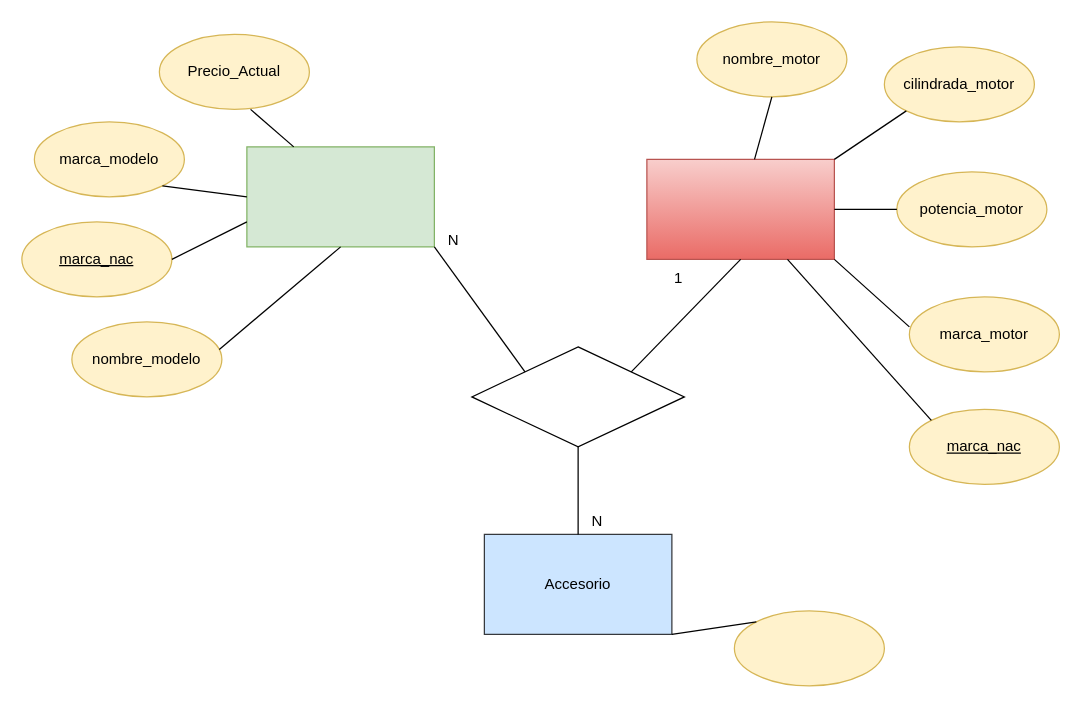
Some shapes in this 1081 by 709 pixel diagram are drawn without their labels. The box of each missing label's shape, as (x1, y1, x2, y2) in pixels:
codigo_accesorio: (733, 610, 884, 686)
ModeloDelAuto: (246, 146, 434, 247)
Motor: (646, 158, 834, 259)
se quiere saber: (471, 346, 684, 447)
